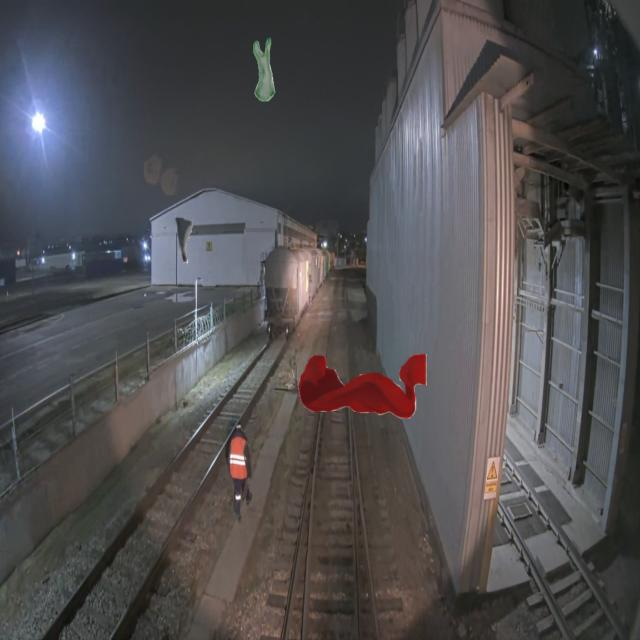floating object: (298, 354, 427, 418)
plastic bag: (253, 38, 275, 102), (174, 201, 193, 265)
